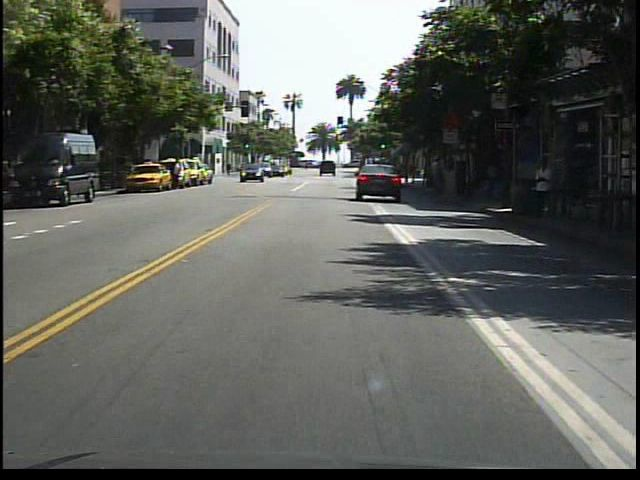person: (530, 151, 563, 225), (170, 156, 186, 193)
